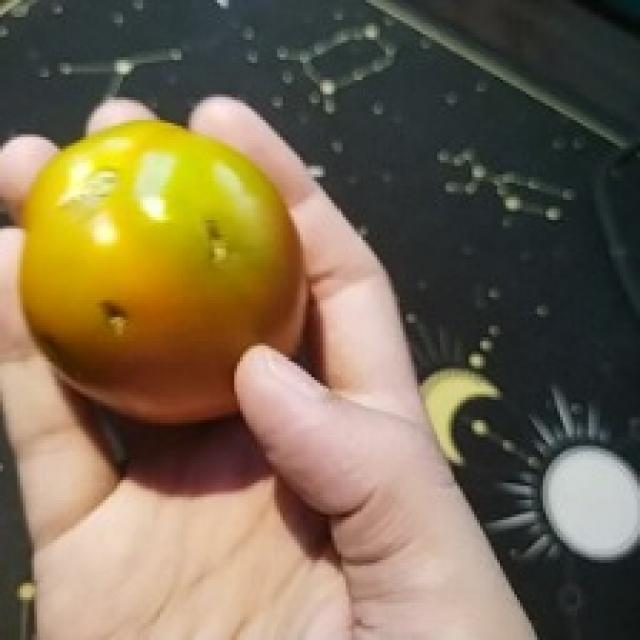Rotten Tomato: (2, 119, 328, 445)
